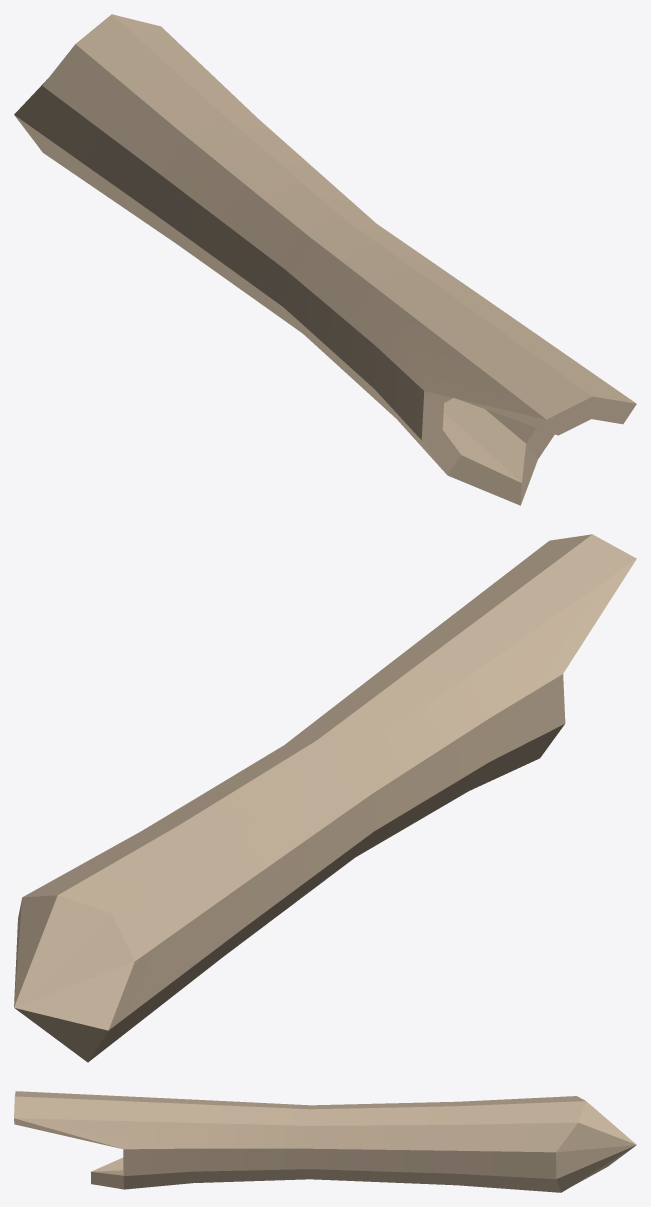
The model's file is SM_Bones_05.fbx.
The picture shows the model from 3 angles, top to bottom: view 1: azimuth 30°, elevation 25°; view 2: azimuth 150°, elevation 25°; view 3: azimuth 270°, elevation 25°; orthographic projection. The views are drawn at different scales.
Visible parts, largest first — view 1: SM_Bones_05; view 2: SM_Bones_05; view 3: SM_Bones_05.
Part boxes in pixels (x1=…): SM_Bones_05: x1=14, y1=14, x2=636, y2=505; SM_Bones_05: x1=14, y1=534, x2=636, y2=1062; SM_Bones_05: x1=14, y1=1091, x2=636, y2=1192.
Size of the model in its own units: 5.33 by 5.03 by 31.03.
Materials: 1 (1 with a texture image).
